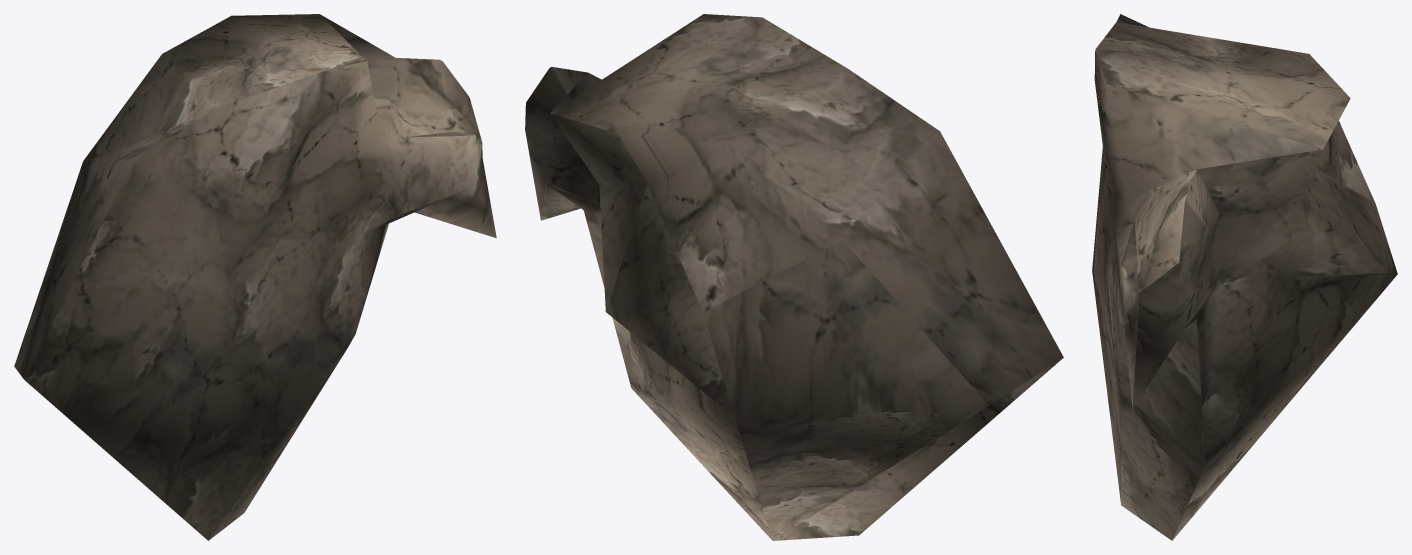
The model's file is Rock 6.fbx.
3 views of the same model, side by side, from view 1: azimuth 30°, elevation 25°; view 2: azimuth 150°, elevation 25°; view 3: azimuth 270°, elevation 25° (orthographic). The views are drawn at different scales.
Parts seen in each view (by area): view 1: Rock 6; view 2: Rock 6; view 3: Rock 6.
Part boxes in pixels (box(x1,y1,x2,y2)): Rock 6: box(14, 14, 496, 540); Rock 6: box(525, 14, 1063, 540); Rock 6: box(1092, 14, 1397, 540).
Bounding box in the file's own units: 267 × 241 × 130.
